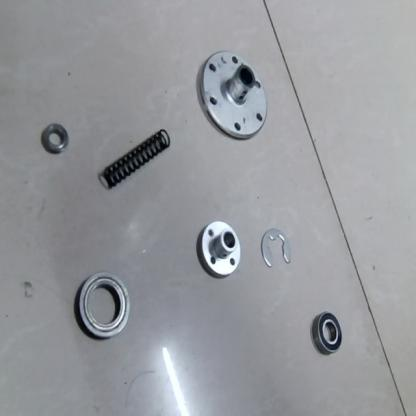FOD: (197, 48, 270, 143), (100, 126, 173, 192), (76, 273, 134, 339), (197, 219, 242, 280), (312, 307, 344, 358), (260, 228, 292, 270), (38, 120, 70, 154)
